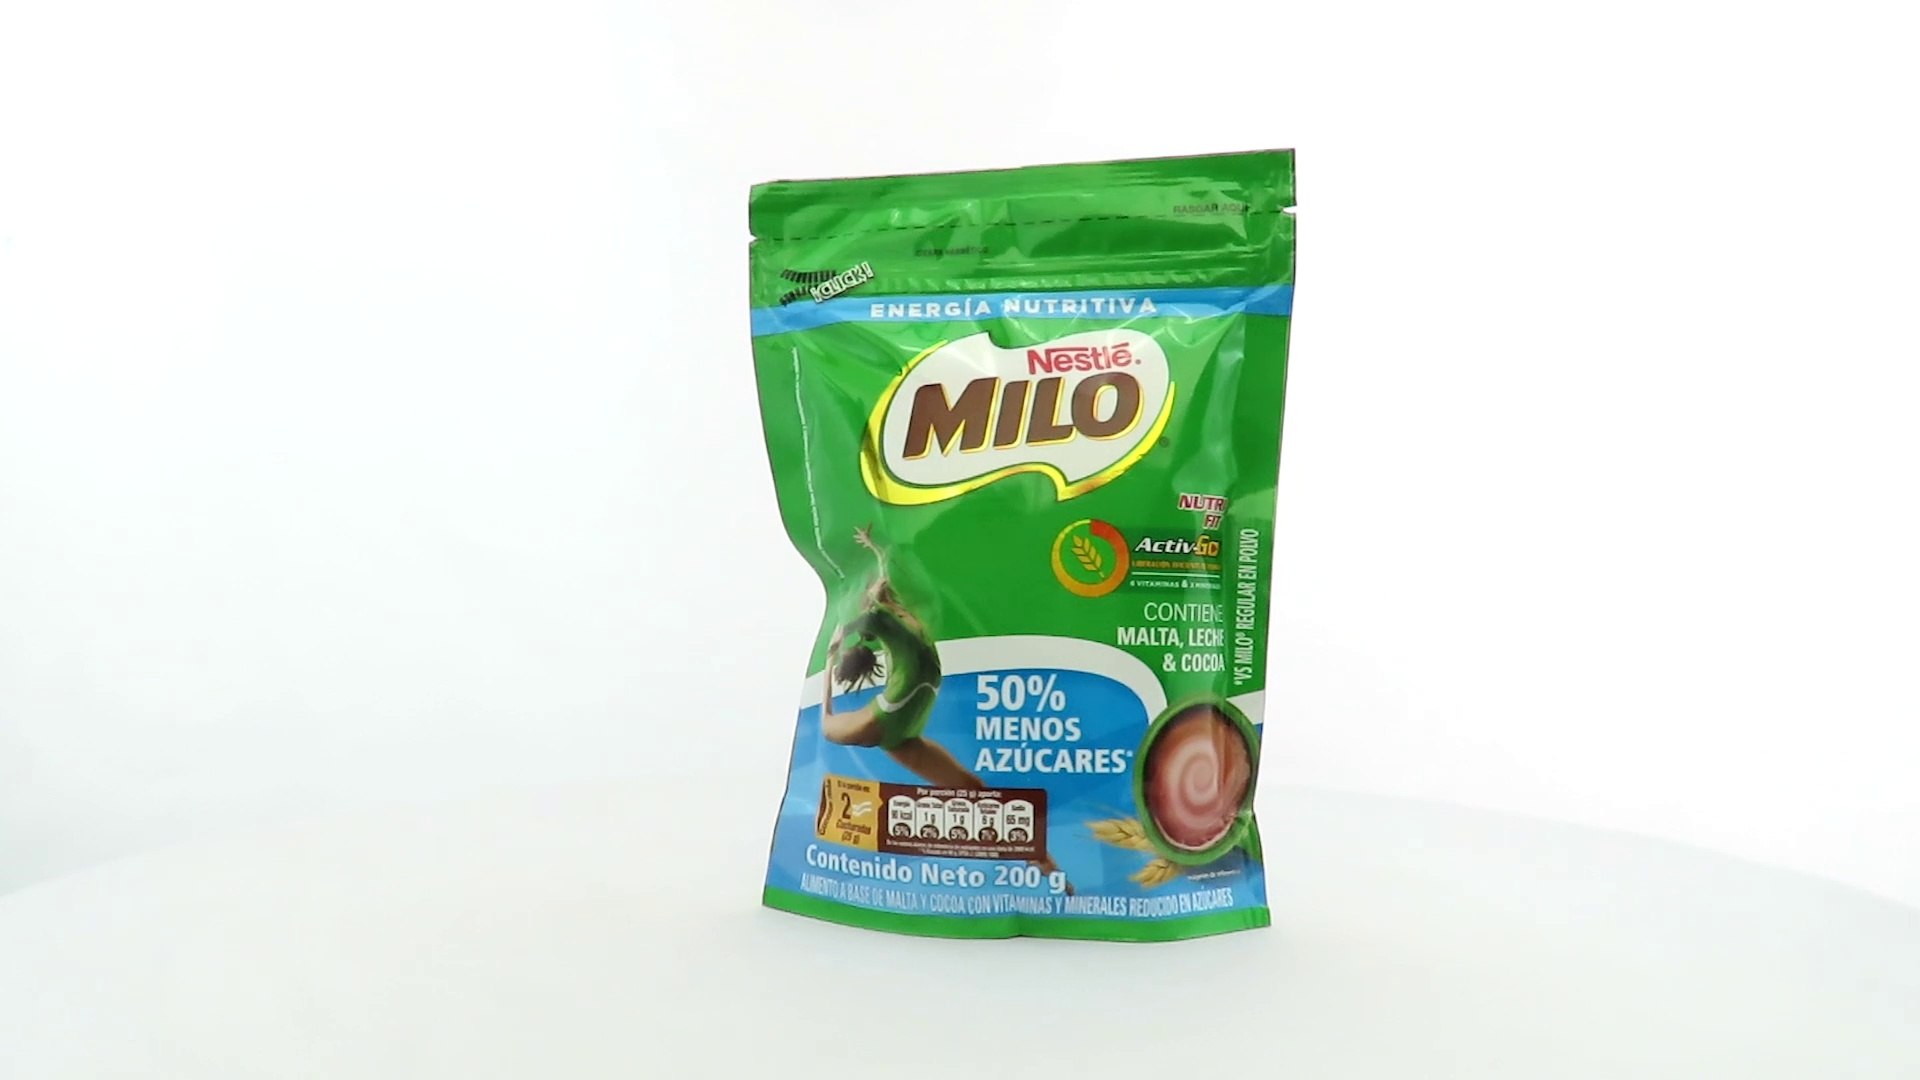COL0170205DYP20000: (742, 142, 1303, 949)
